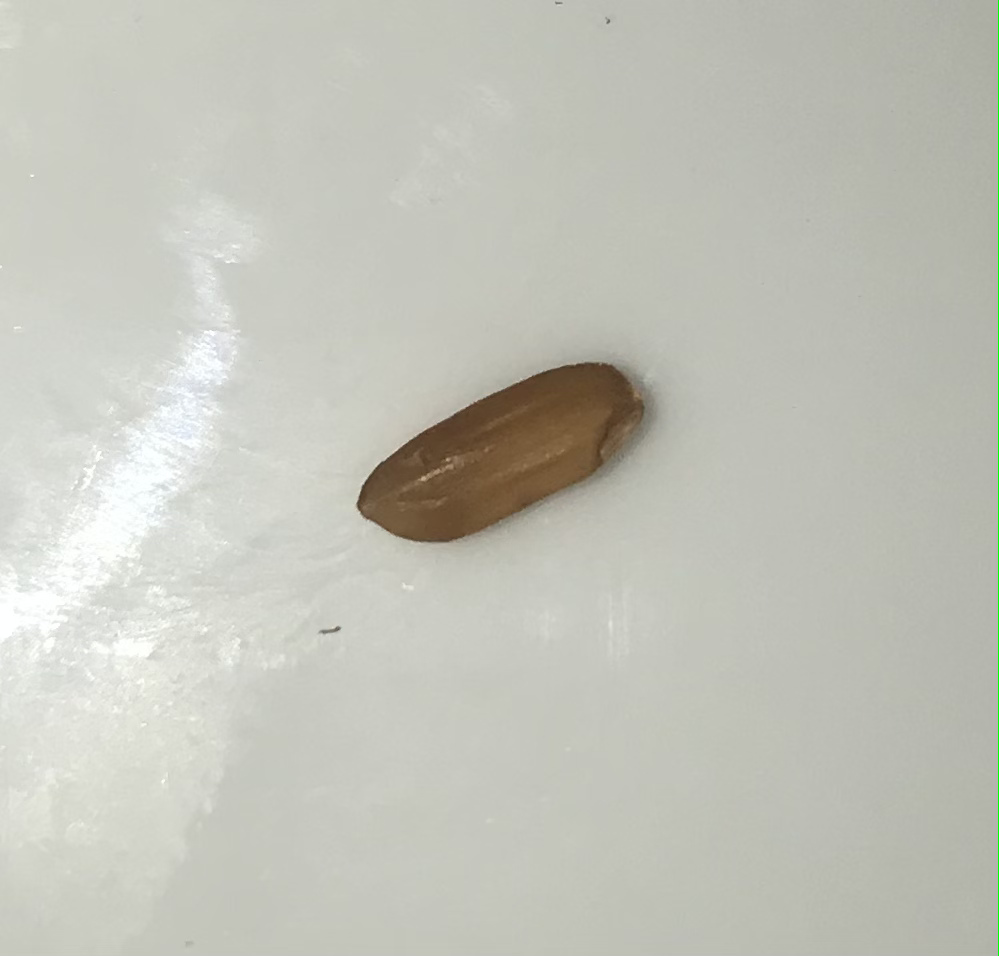Gao Lut Dien Bien: (342, 357, 650, 542)
